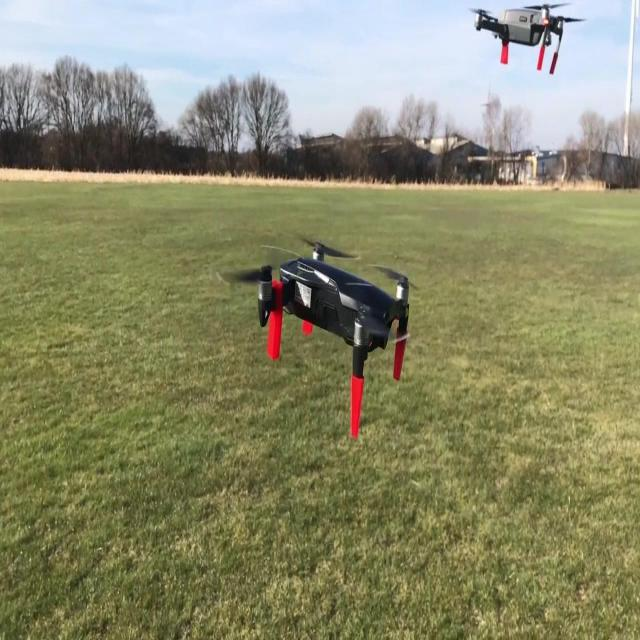UAV: (219, 233, 419, 439), (468, 0, 586, 76)
